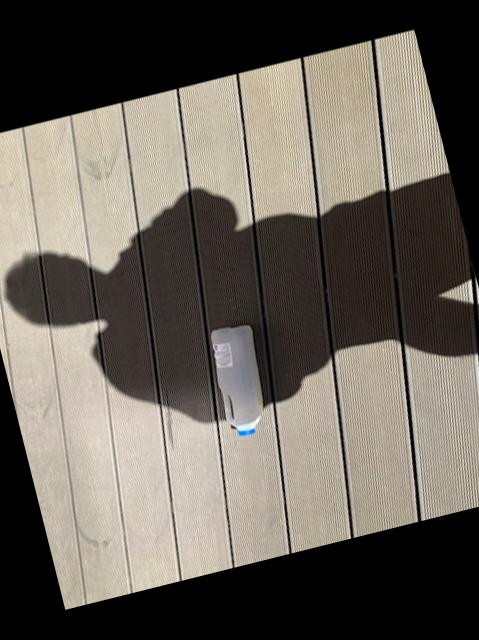plastic: (212, 324, 263, 434)
